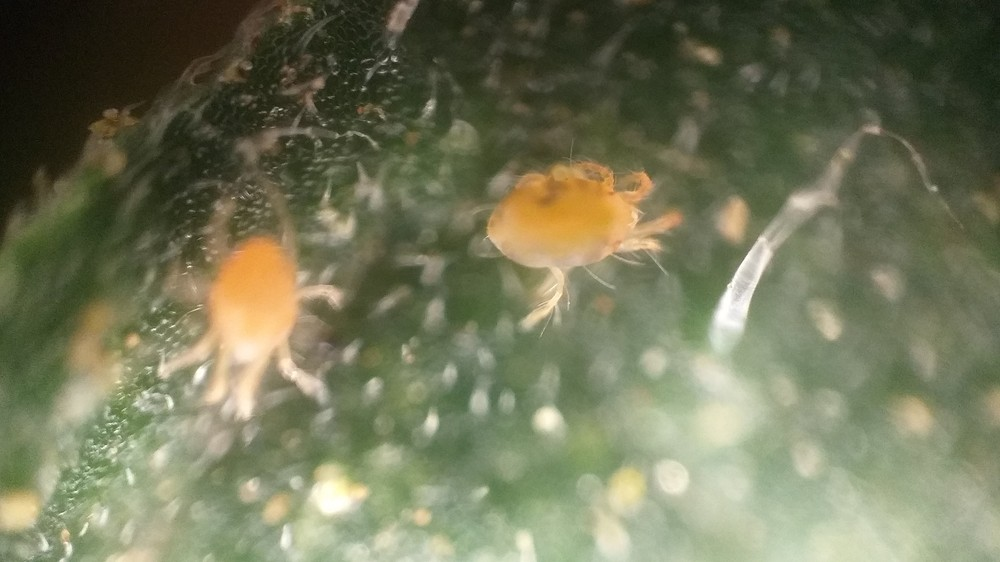Aracnido Rojo: (453, 124, 702, 323), (138, 199, 357, 415)
